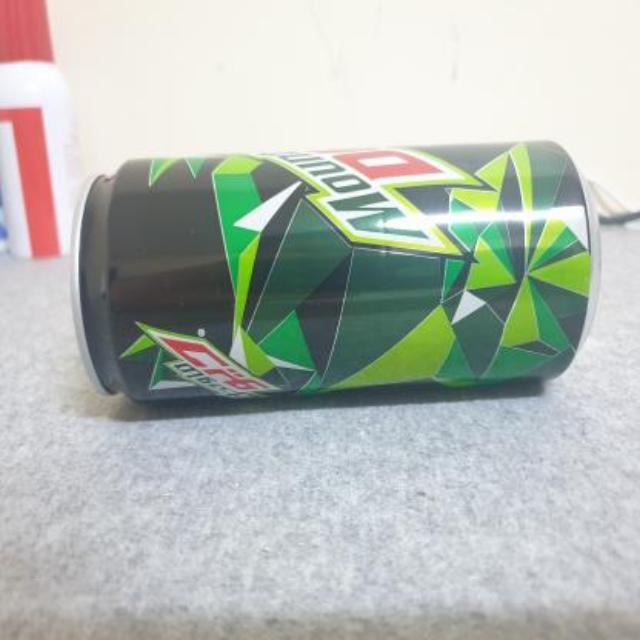metal: (72, 140, 594, 397)
